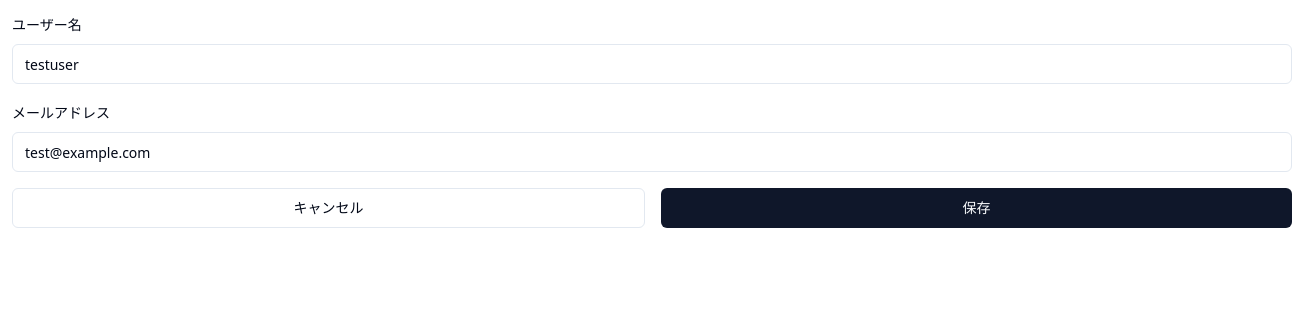
Scenario: UserSettingsForm › should display error message on update failure
Click the button "保存" at (976, 208), box [661, 188, 1292, 228]
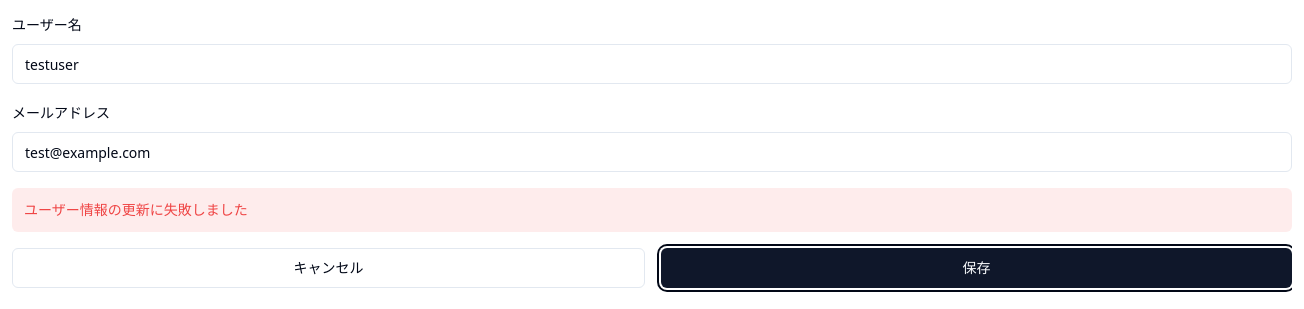
expect the text "ユーザー情報の更新に失敗しました" is shown: met, box [12, 188, 1292, 232]
